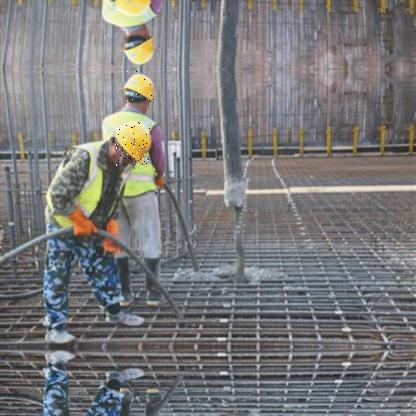safetyhelmet: (113, 122, 151, 168), (123, 71, 155, 102)
